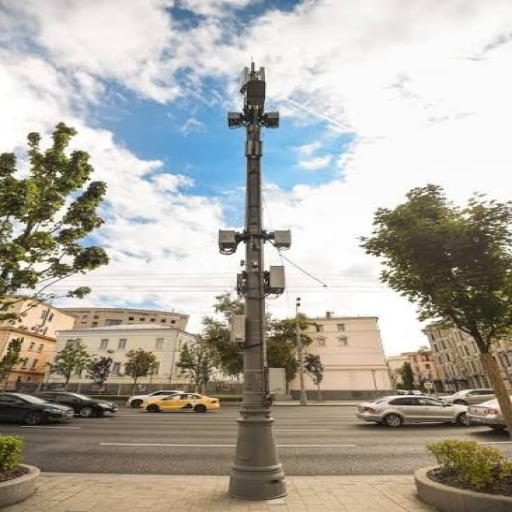odn_pole: (217, 59, 292, 502)
